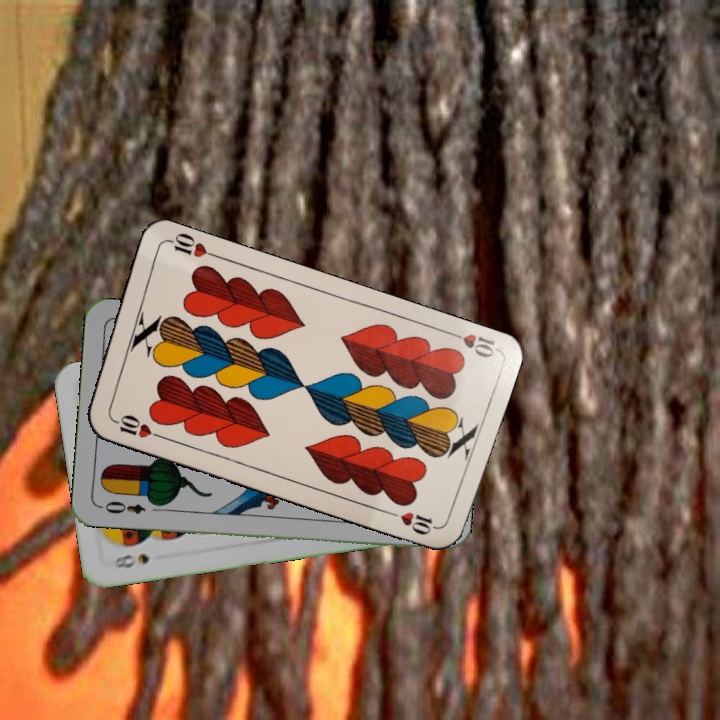EO: (96, 497, 148, 517)
H10: (441, 326, 499, 361), (106, 410, 164, 441)
S8: (111, 550, 153, 571)
